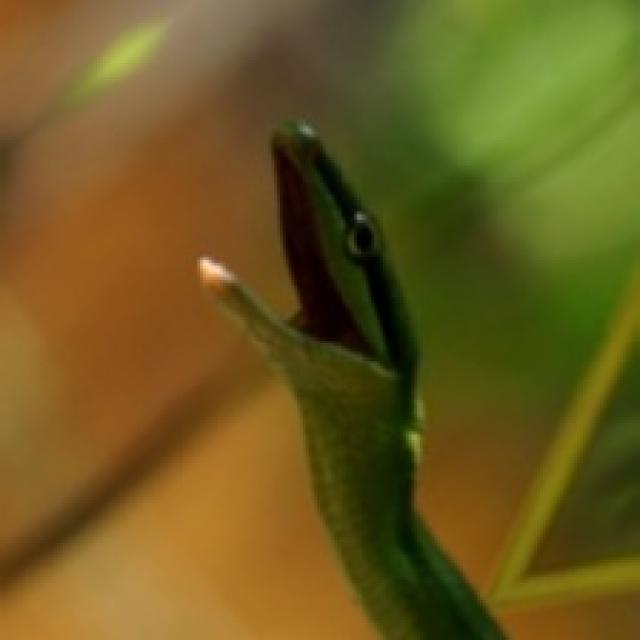red-tailed green ratsnake: (197, 123, 503, 637)
